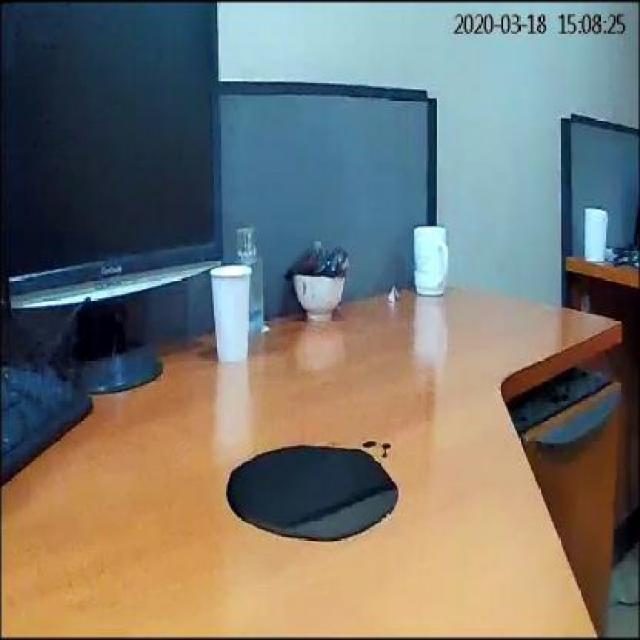spill: (223, 440, 402, 542)
